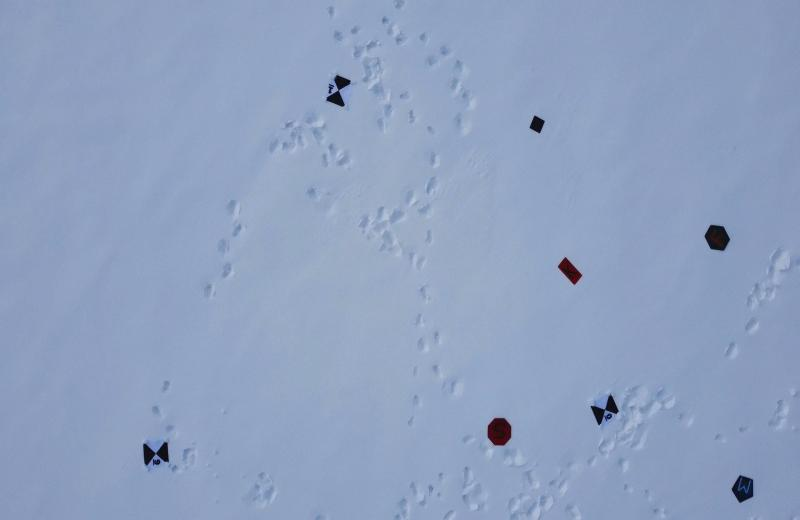Hexagon: (701, 220, 731, 255)
Octagon: (485, 412, 514, 452)
Pentagon: (730, 473, 758, 505)
Rectangle: (555, 249, 584, 283)
Square: (525, 112, 547, 136)
